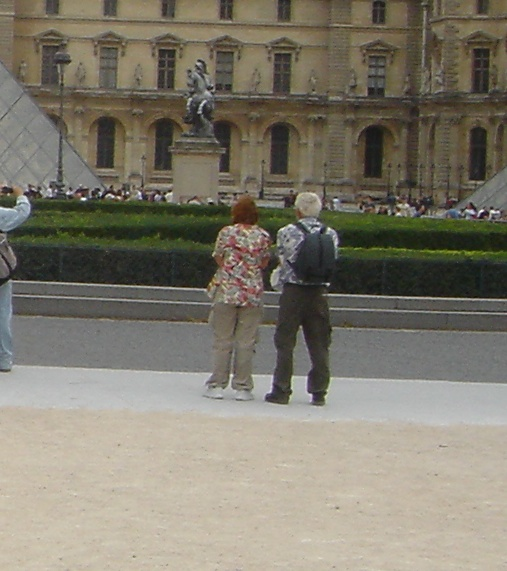person: (267, 193, 339, 406), (206, 194, 269, 401)
